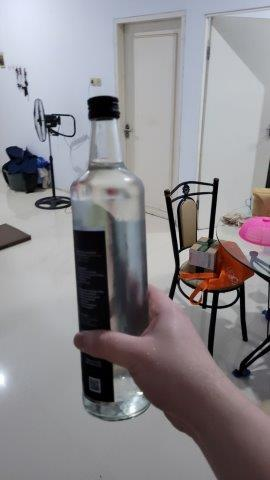botolkaca: (70, 96, 155, 424)
